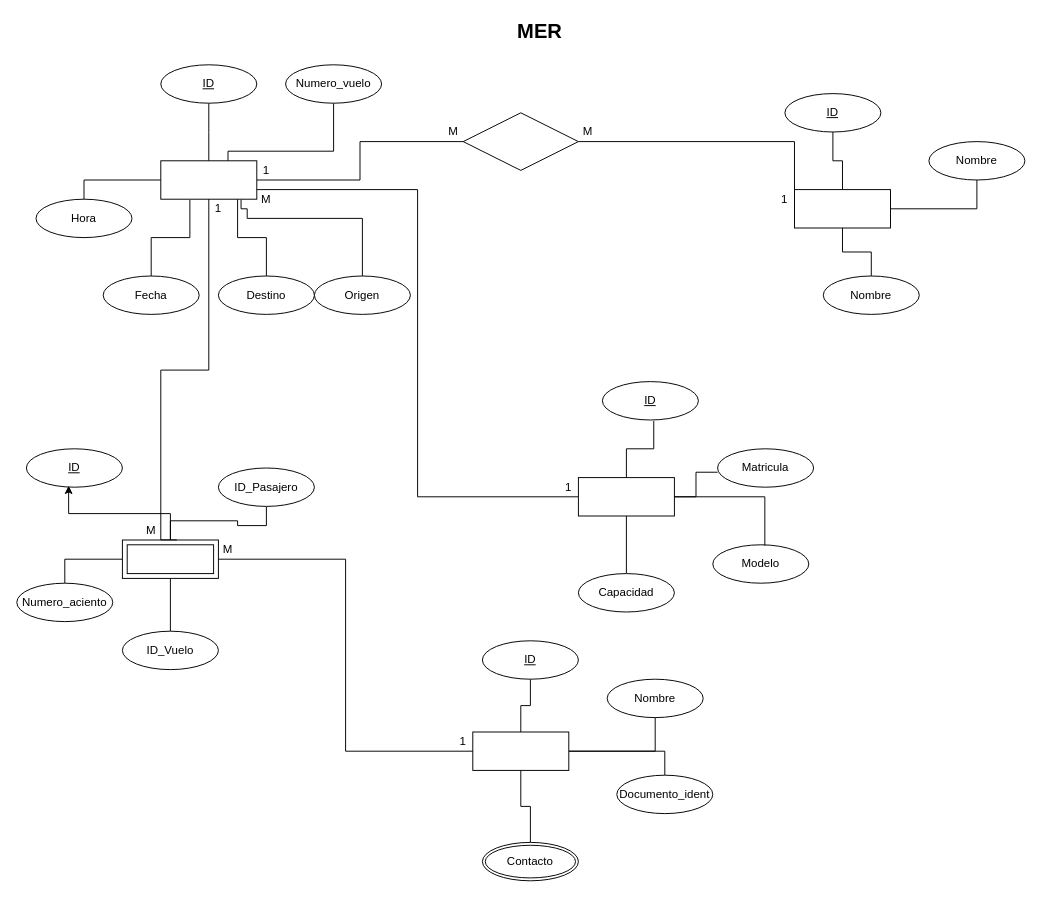
This 1043x898 diagram has some shape labels left out. Here are the shapes that lost their labels. From the top down, the centre of each, then its label:
At (x=520, y=141): "Vuelo_tripulante".
At (x=208, y=179): "Vuelo".
At (x=842, y=208): "Tripulante".
At (x=625, y=496): "Aeronave".
At (x=169, y=558): "Reserva".
At (x=520, y=750): "Pasajero".
